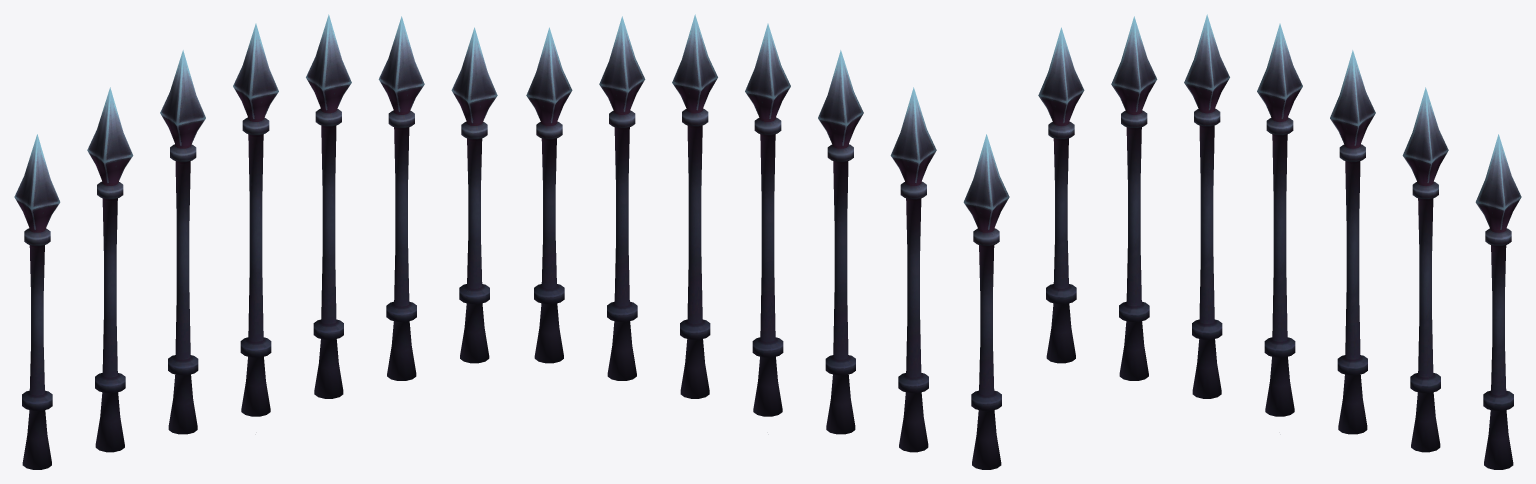
Rendered from Gate_01.obj.
The picture shows the model from 3 angles, left to right: view 1: azimuth 30°, elevation 25°; view 2: azimuth 150°, elevation 25°; view 3: azimuth 330°, elevation 25°; orthographic projection.
Visible parts, largest first — view 1: Storm_Building_WinterCrest_Gate_0; view 2: Storm_Building_WinterCrest_Gate_0; view 3: Storm_Building_WinterCrest_Gate_0.
Part boxes in pixels (x1,y1,x2,y2): Storm_Building_WinterCrest_Gate_0: [14, 14, 497, 469]; Storm_Building_WinterCrest_Gate_0: [526, 14, 1009, 469]; Storm_Building_WinterCrest_Gate_0: [1038, 14, 1521, 469].
Bounding box in the file's own units: 1100 × 927 × 69.
Materials: 2 (2 with a texture image).
